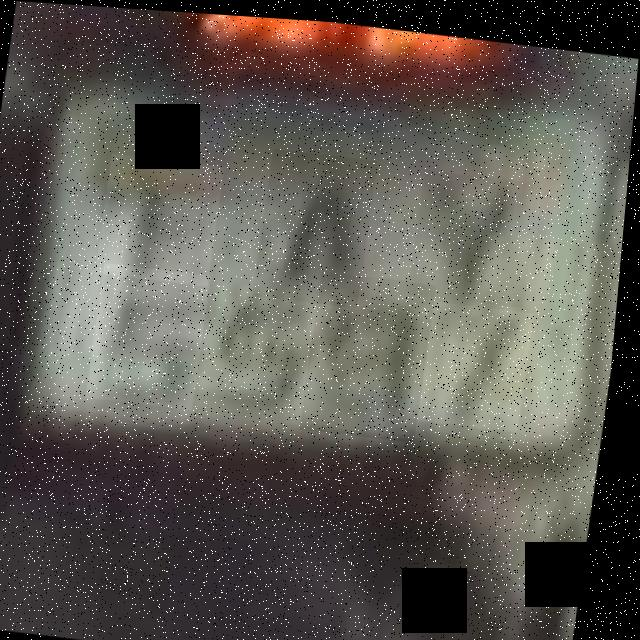1: (425, 295, 540, 425)
5: (203, 264, 325, 415), (92, 261, 216, 408)
8: (307, 266, 441, 439)
N: (258, 145, 380, 303)
T: (100, 152, 227, 284)
Y: (412, 164, 543, 301)
